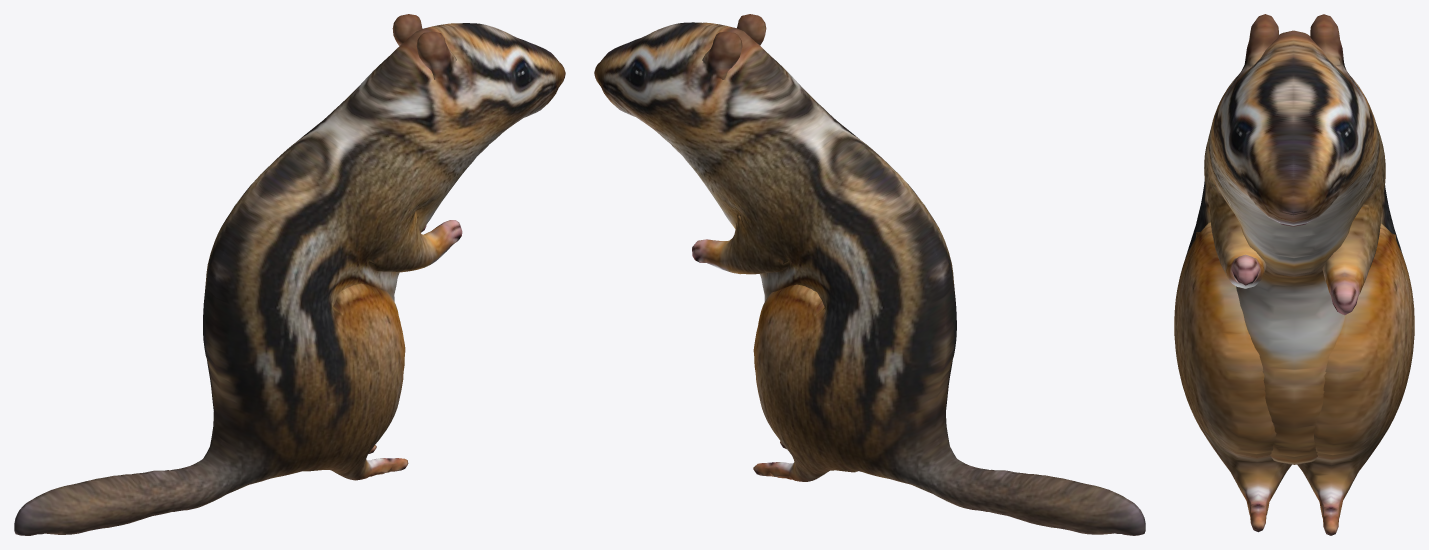
The model's file is wildlife_chipmunk.glb.
3 views of the same model, side by side, from view 1: azimuth 30°, elevation 25°; view 2: azimuth 150°, elevation 25°; view 3: azimuth 270°, elevation 25° (orthographic). The views are drawn at different scales.
Visible parts, largest first — view 1: mesh_0; view 2: mesh_0; view 3: mesh_0.
Part boxes in pixels (bbox=[...]): mesh_0: bbox=[14, 14, 565, 535]; mesh_0: bbox=[594, 14, 1145, 535]; mesh_0: bbox=[1174, 14, 1414, 535].
Size of the model in its own units: 0.32 by 0.2409 by 0.0973.
Materials: 1 (1 with a texture image).
